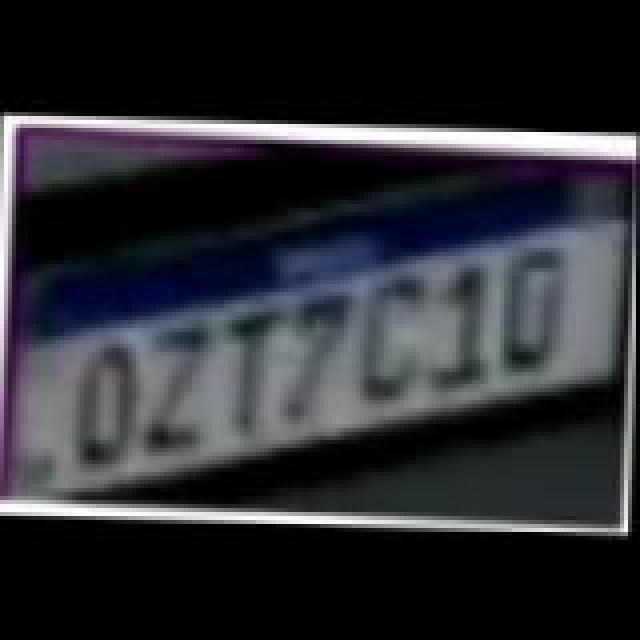1: (422, 260, 506, 396)
7: (278, 292, 362, 420)
C: (348, 274, 436, 410)
D: (492, 246, 580, 374)
O: (68, 342, 152, 470)
T: (216, 308, 296, 440)
Z: (140, 324, 224, 460)
